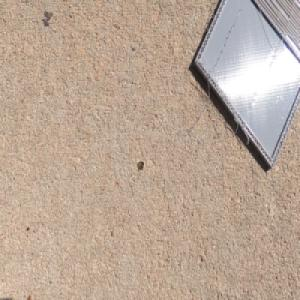PlasticPart: (192, 0, 300, 172)
